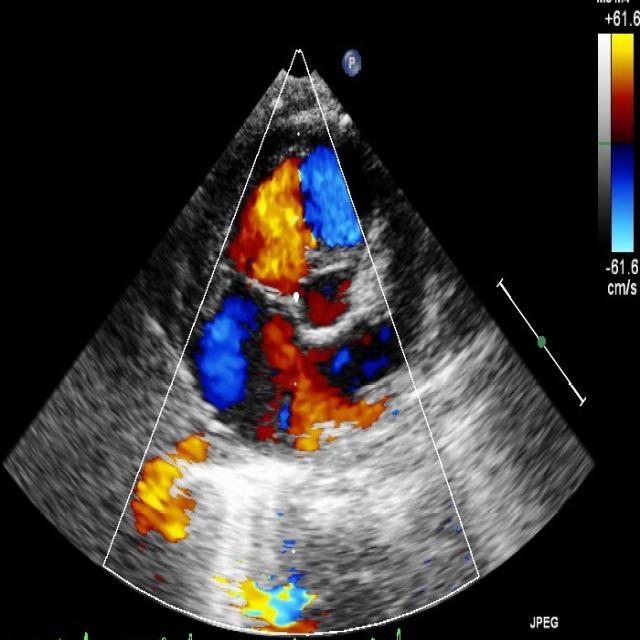VSDType2: (241, 154, 320, 452)
